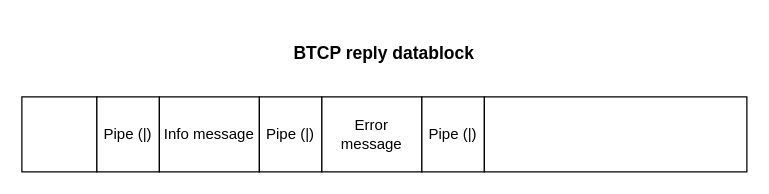
Image size: 769x194. Some labels were removed from this diagram. The centre of each missing label's shape, as x and y in pixels:
"Data bytes as requested by your buisness transaction" goes at (615,134).
"Error code" goes at (59,134).
